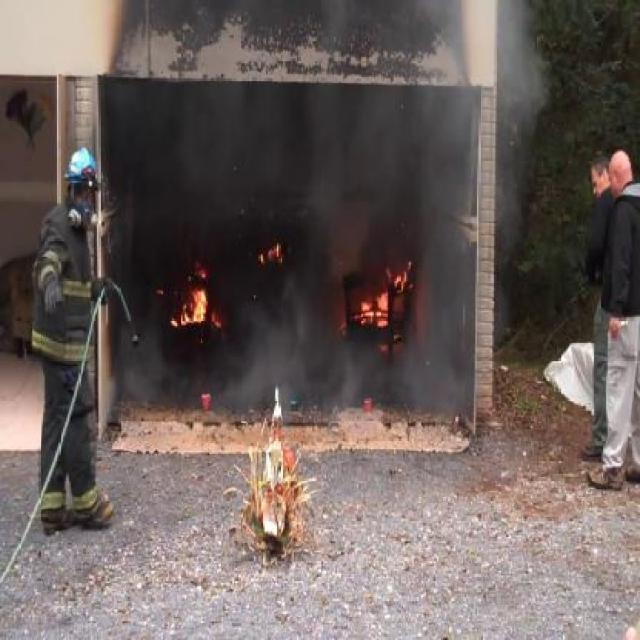fire: (348, 262, 427, 362), (172, 264, 225, 339)
smoke: (138, 78, 526, 247), (248, 258, 339, 396)
